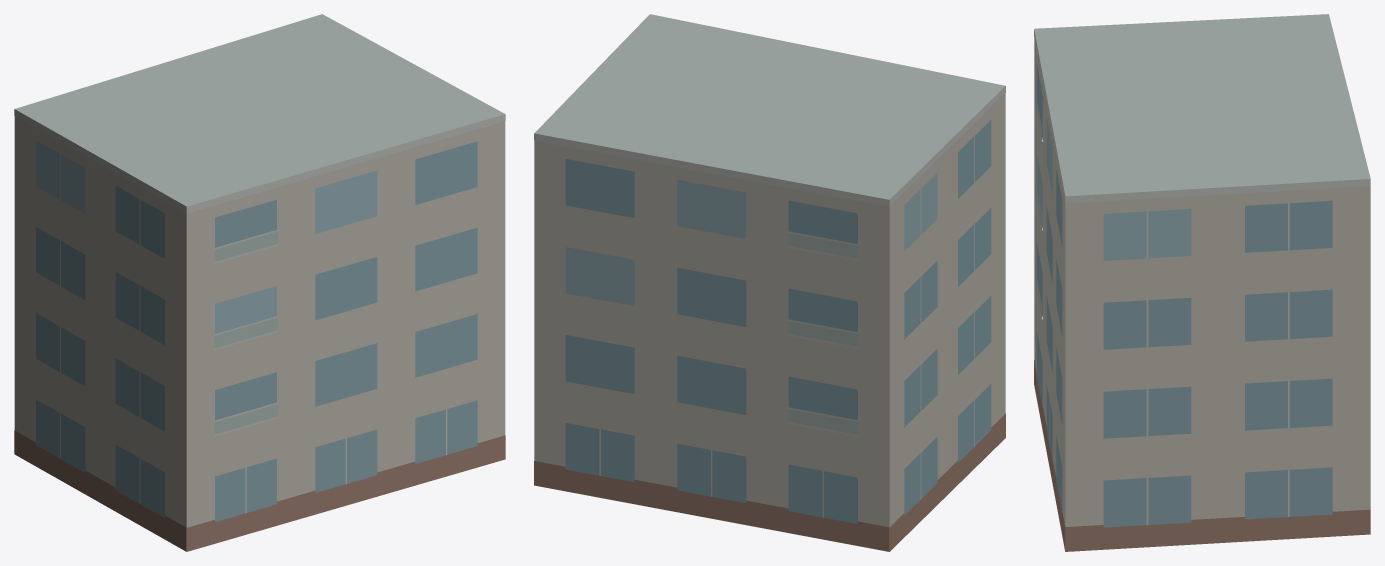
Rendered from survey-upis-32624316.glb.
3 views of the same model, side by side, from view 1: azimuth 30°, elevation 25°; view 2: azimuth 150°, elevation 25°; view 3: azimuth 270°, elevation 25° (orthographic). The views are drawn at different scales.
Visible parts, largest first — view 1: survey-upis-32624316.tmp; view 2: survey-upis-32624316.tmp; view 3: survey-upis-32624316.tmp.
Boxes of the visible parts, x1,y1,x2,y2 form: survey-upis-32624316.tmp: [14, 14, 505, 551]; survey-upis-32624316.tmp: [534, 14, 1005, 551]; survey-upis-32624316.tmp: [1034, 14, 1370, 551].
Bounding box in the file's own units: 13.43 × 12.2 × 10.48.
